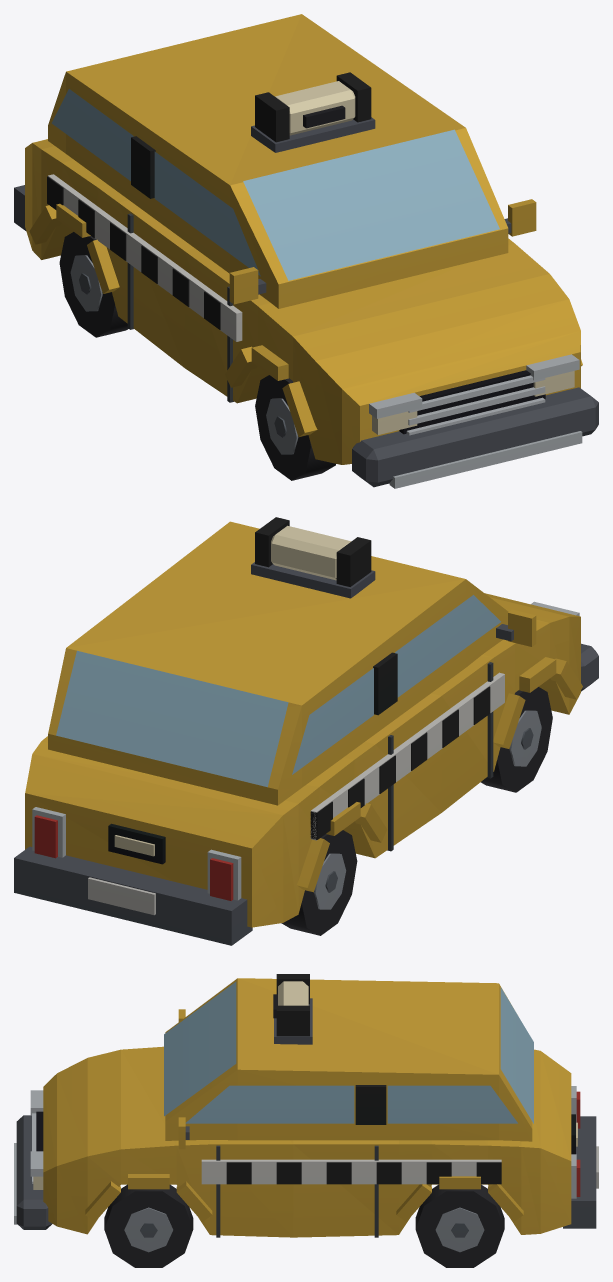
File: taxi.glb
3 renders of one model, top to bottom at view 1: azimuth 30°, elevation 25°; view 2: azimuth 150°, elevation 25°; view 3: azimuth 270°, elevation 25°, orthographic. The views are drawn at different scales.
Parts seen in each view (by area): view 1: metropolis_taxi_01; view 2: metropolis_taxi_01; view 3: metropolis_taxi_01.
Boxes of the visible parts, x1,y1,x2,y2 form: metropolis_taxi_01: (14, 14, 598, 488); metropolis_taxi_01: (14, 517, 598, 945); metropolis_taxi_01: (14, 974, 598, 1267).
Bounding box in the file's own units: 1.3 × 1.18 × 2.74.
